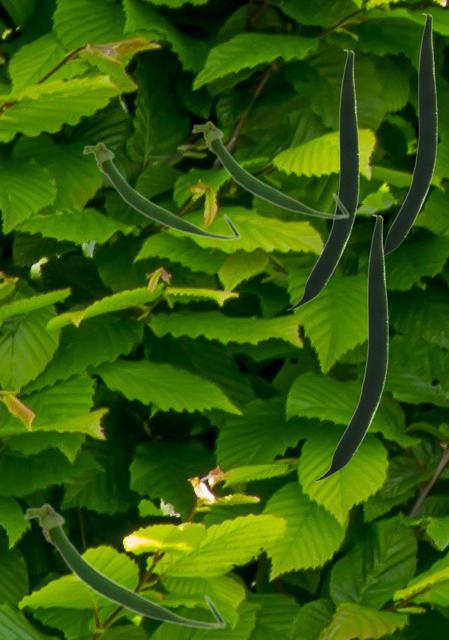french_bean: (22, 501, 226, 629), (313, 214, 387, 480), (286, 49, 358, 309), (190, 120, 349, 219), (81, 141, 240, 240), (384, 13, 436, 255)
